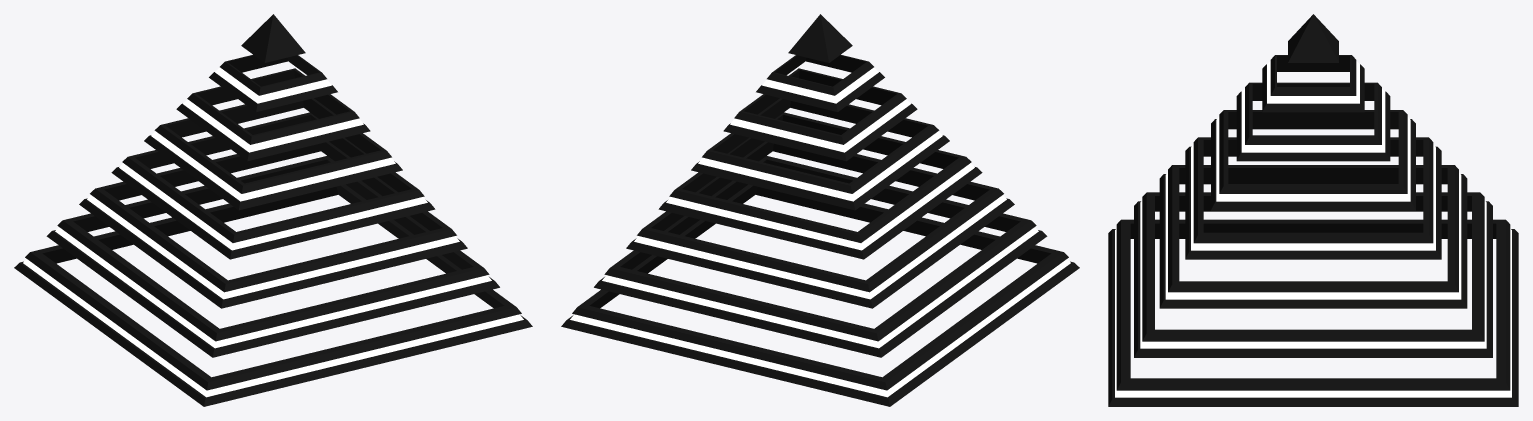
File: novel_attention_shapes_compressed_with_textures.gltf
The picture shows the model from 3 angles, left to right: view 1: azimuth 30°, elevation 25°; view 2: azimuth 150°, elevation 25°; view 3: azimuth 270°, elevation 25°; orthographic projection. The views are drawn at different scales.
Parts seen in each view (by area): view 1: Cone, Cone.002, Cone.003, Cone.004, Cone.005, Cone.006, Cone.007, Cone.001; view 2: Cone, Cone.002, Cone.003, Cone.004, Cone.005, Cone.006, Cone.007, Cone.001; view 3: Cone, Cone.002, Cone.003, Cone.004, Cone.005, Cone.006, Cone.007, Cone.001.
Part boxes in pixels (left/top/right/bottom): Cone: left=14, top=184, right=532, bottom=406; Cone.002: left=46, top=156, right=499, bottom=357; Cone.003: left=79, top=141, right=467, bottom=308; Cone.004: left=111, top=112, right=435, bottom=259; Cone.005: left=144, top=98, right=402, bottom=210; Cone.006: left=176, top=68, right=370, bottom=161; Cone.007: left=209, top=55, right=337, bottom=111; Cone.001: left=241, top=14, right=305, bottom=62; Cone: left=561, top=184, right=1079, bottom=406; Cone.002: left=594, top=156, right=1047, bottom=357; Cone.003: left=626, top=141, right=1014, bottom=308; Cone.004: left=658, top=112, right=982, bottom=259; Cone.005: left=691, top=98, right=949, bottom=210; Cone.006: left=723, top=68, right=917, bottom=161; Cone.007: left=756, top=55, right=884, bottom=111; Cone.001: left=788, top=14, right=852, bottom=62; Cone: left=1108, top=219, right=1518, bottom=406; Cone.002: left=1134, top=192, right=1492, bottom=357; Cone.003: left=1159, top=165, right=1467, bottom=308; Cone.004: left=1185, top=137, right=1441, bottom=259; Cone.005: left=1211, top=110, right=1415, bottom=210; Cone.006: left=1236, top=82, right=1390, bottom=161; Cone.007: left=1262, top=55, right=1364, bottom=112; Cone.001: left=1288, top=14, right=1338, bottom=62.
Bounding box in the file's own units: 1.77 × 1.46 × 1.77.
Materials: 2 (1 with a texture image).
